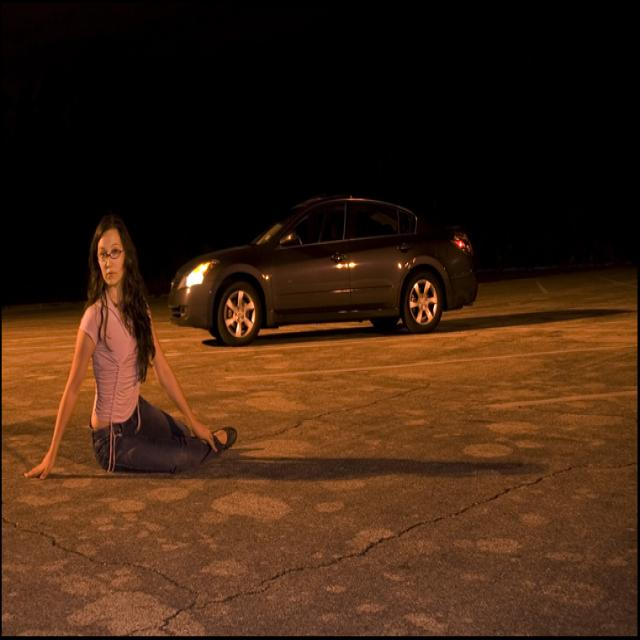Car: (144, 212, 511, 339)
